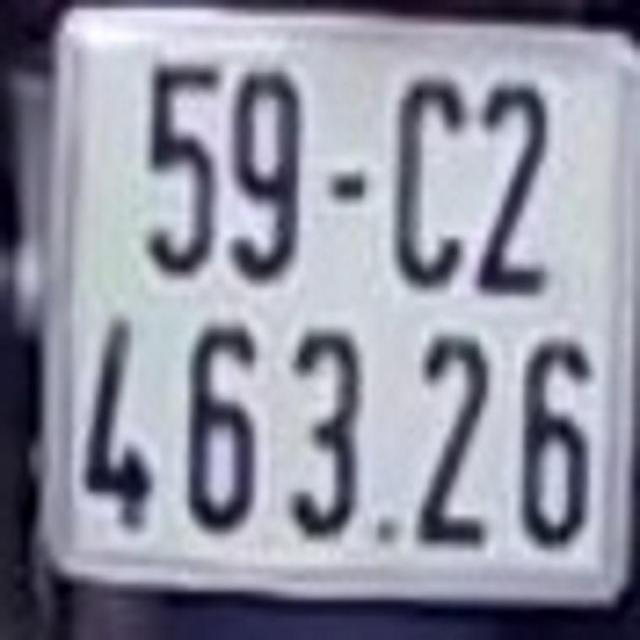2: (412, 330, 492, 545), (478, 74, 548, 296)
3: (290, 321, 360, 537)
4: (83, 315, 153, 528)
5: (145, 56, 217, 274)
6: (516, 320, 592, 551), (184, 314, 258, 533)
9: (228, 63, 302, 283)
C: (394, 73, 467, 290)
